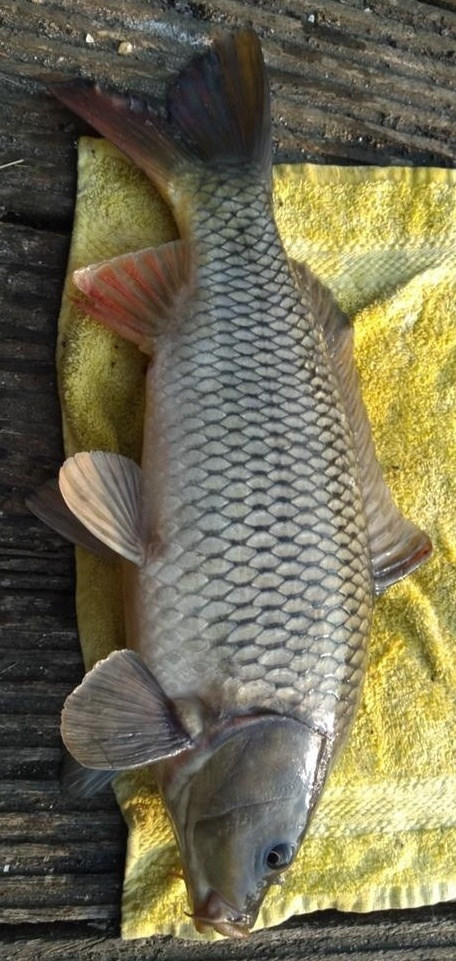Carassius carassius: (20, 20, 436, 941)
